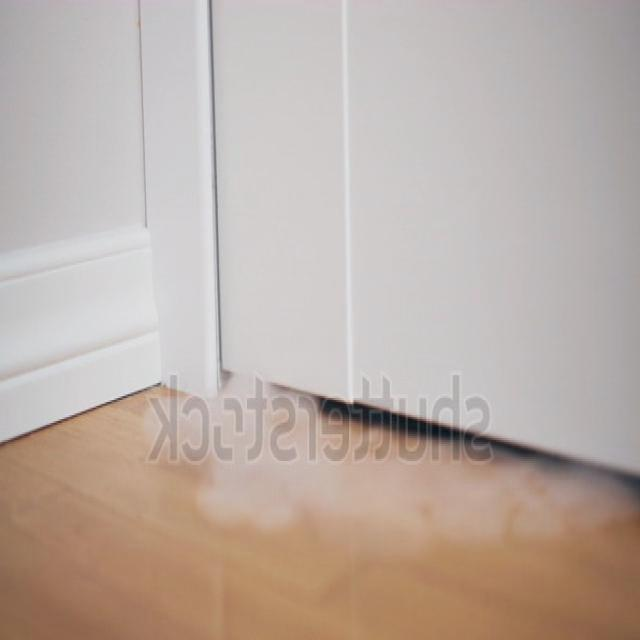smoke: (153, 388, 636, 546)
